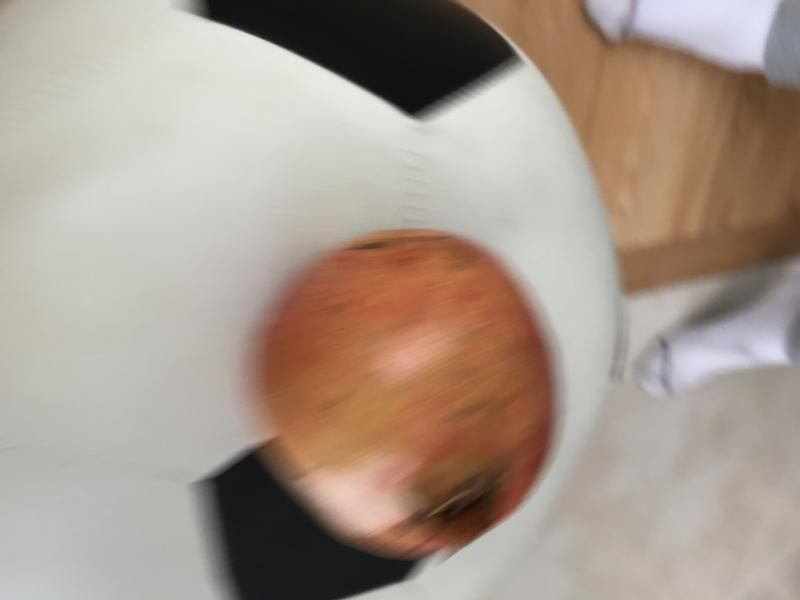pomegranate: (226, 217, 567, 562)
